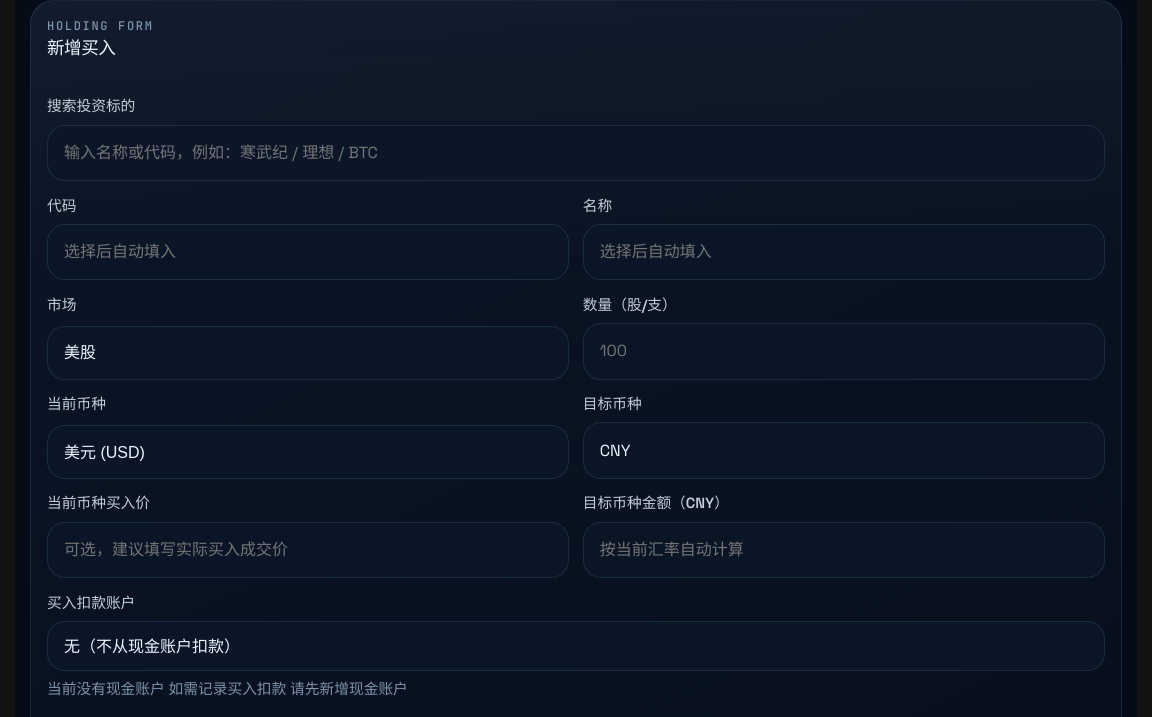
HoldingForm create defaults › shows readonly target cny amount based on quantity price and current currency
The width and height of the screenshot is (1152, 717).
Type "2" into the number field labelled "数量（股/支）" at (844, 351), box top-left (583, 323), bottom-right (1105, 380)
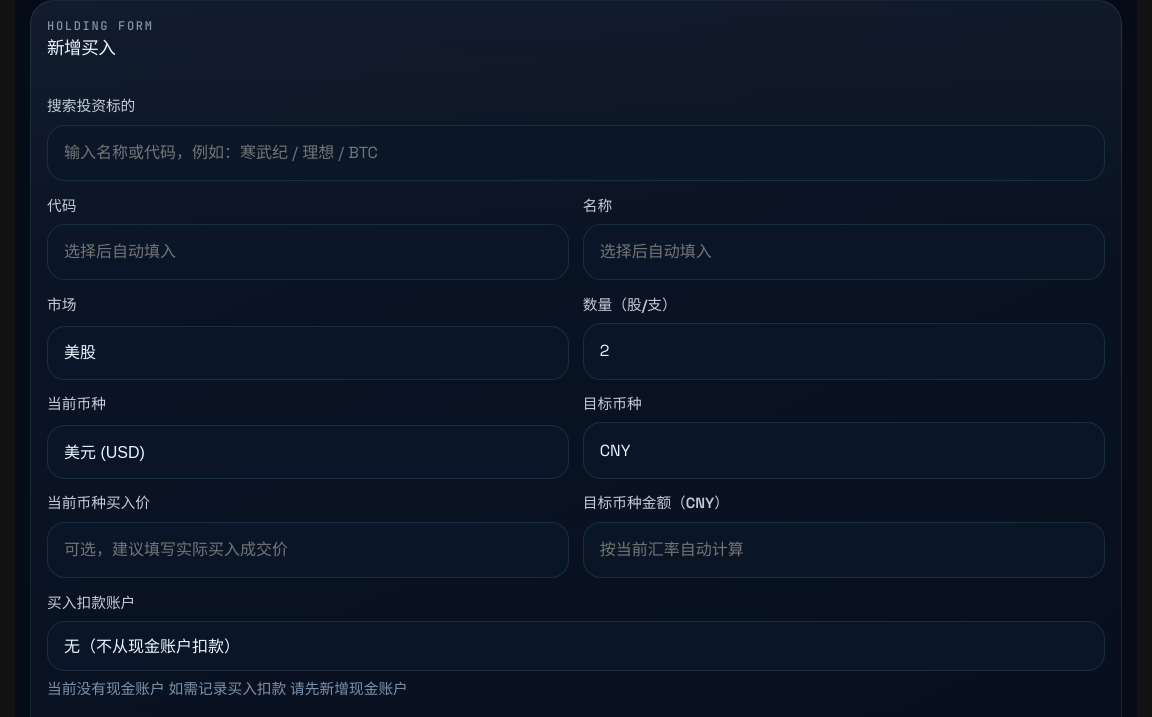
Type "10" into the number field labelled "当前币种买入价" at (308, 550), box top-left (47, 522), bottom-right (569, 578)
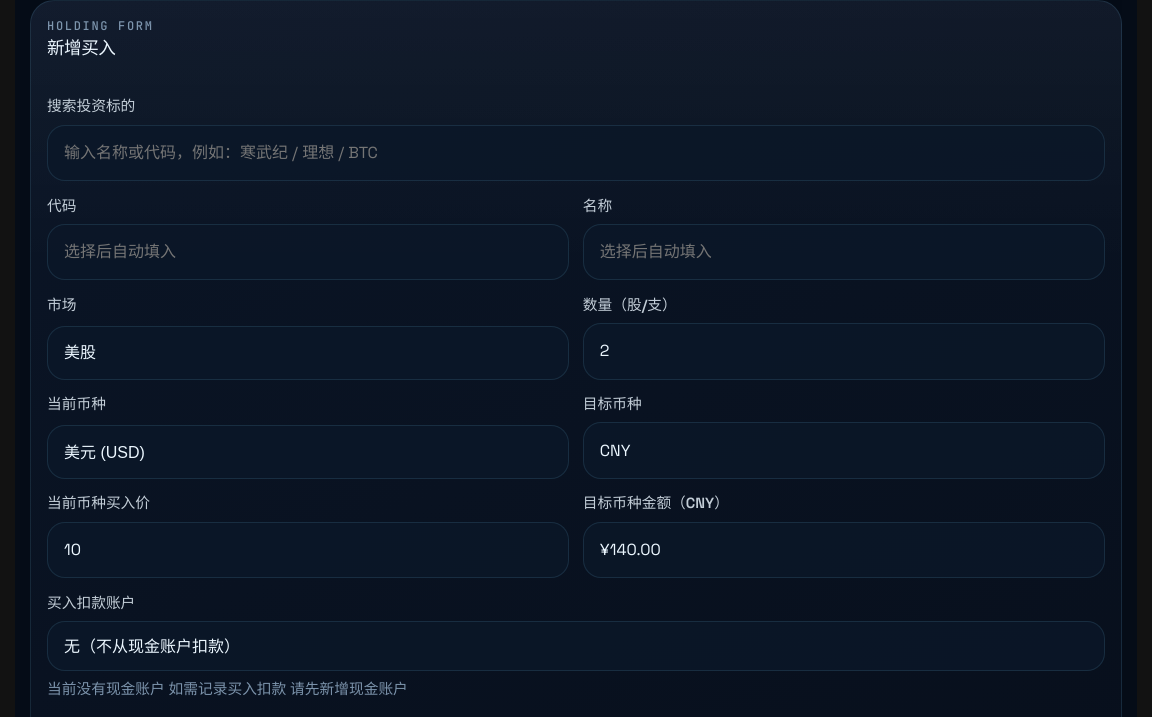
Expected: the field labelled "目标币种" holds "CNY", top-left (583, 422), bottom-right (1105, 479)
Expected: the field labelled "目标币种金额（CNY）" holds "¥140.00", top-left (583, 522), bottom-right (1105, 578)
